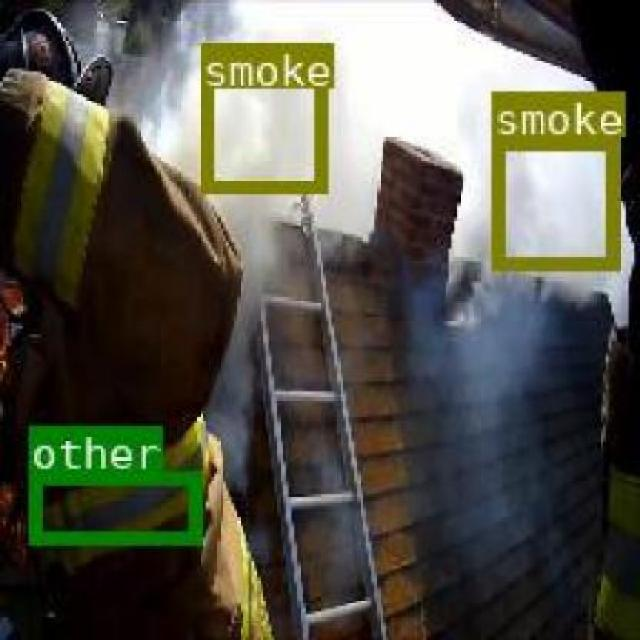smoke: (200, 41, 326, 190), (488, 136, 616, 267)
